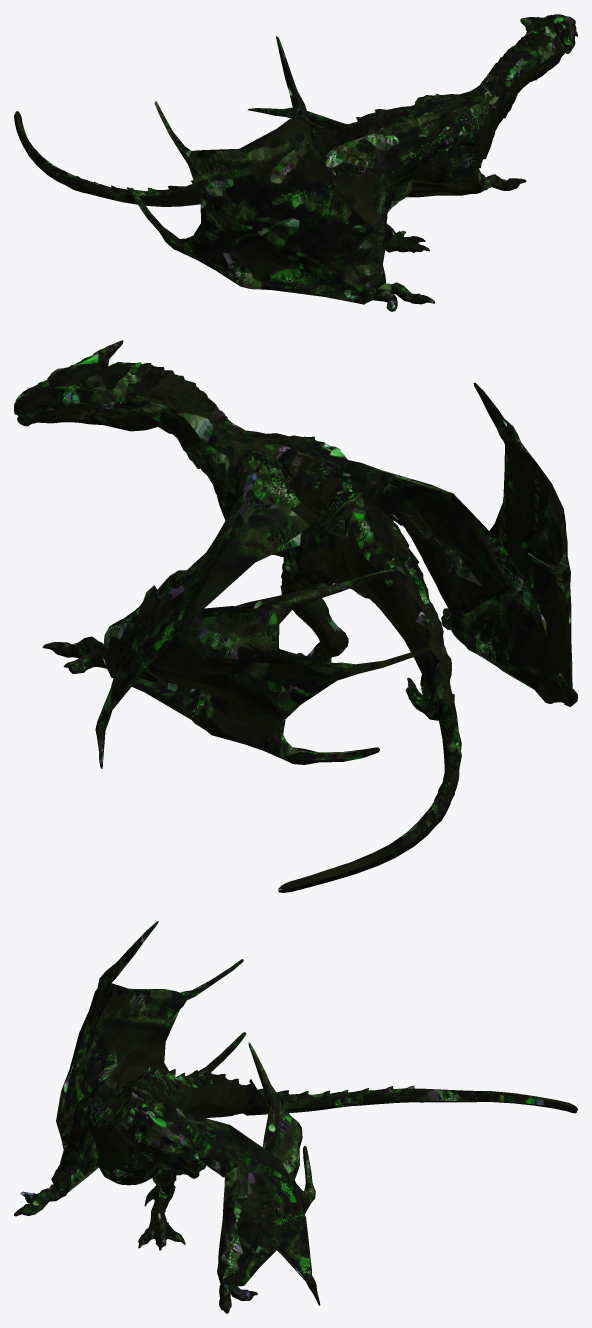
Rendered from frame_0048_uv.obj.
The picture shows the model from 3 angles, top to bottom: view 1: azimuth 30°, elevation 25°; view 2: azimuth 150°, elevation 25°; view 3: azimuth 270°, elevation 25°; orthographic projection. The views are drawn at different scales.
Parts seen in each view (by area): view 1: pMesh1; view 2: pMesh1; view 3: pMesh1.
Boxes of the visible parts, x1,y1,x2,y2 form: pMesh1: [14, 14, 577, 311]; pMesh1: [14, 340, 577, 892]; pMesh1: [14, 921, 577, 1313].
Size of the model in its own units: 1.74 by 1.07 by 1.92.
